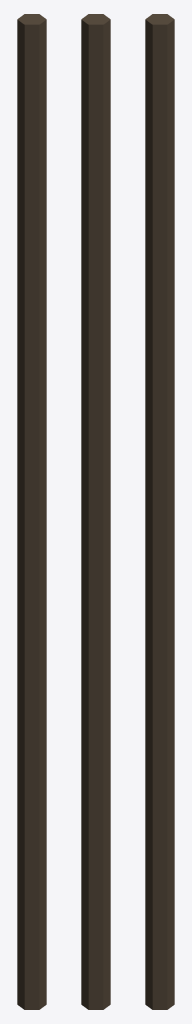
File: mastro.obj
The picture shows the model from 3 angles, left to right: view 1: azimuth 30°, elevation 25°; view 2: azimuth 150°, elevation 25°; view 3: azimuth 330°, elevation 25°; orthographic projection.
Parts seen in each view (by area): view 1: Circle; view 2: Circle; view 3: Circle.
Boxes of the visible parts, x1,y1,x2,y2 form: Circle: [17, 14, 46, 1009]; Circle: [81, 14, 110, 1009]; Circle: [145, 14, 174, 1009].
Size of the model in its own units: 0.2185 by 9.29 by 0.2523.
